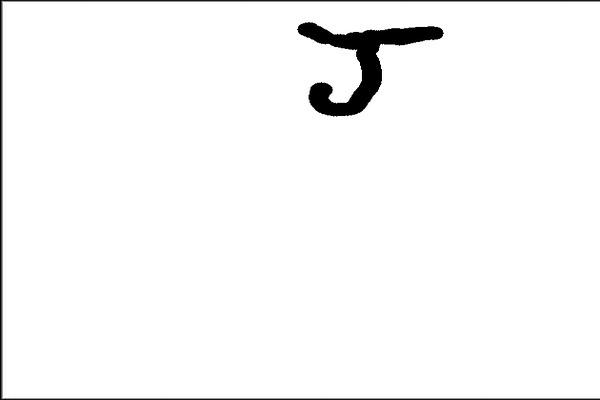J: (288, 14, 447, 118)
